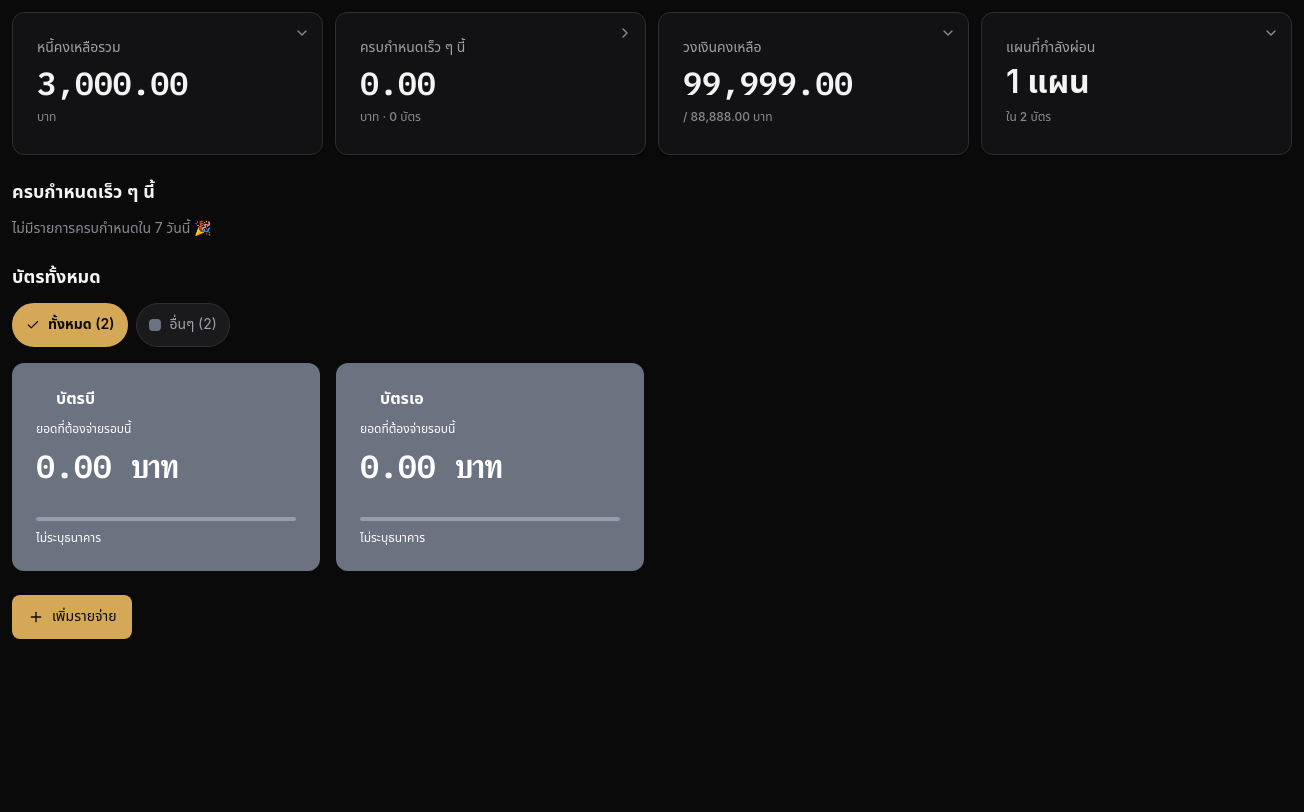
Test case: CreditCardDashboard KPI drill-down › credit and plans panels (phase 2) › desktop credit tile toggles the credit panel with a single id
The image size is (1304, 812).
Click the button "วงเงินคงเหลือ 99,999.00 / 88,888.00 บาท" at coordinates (814, 83), box [658, 12, 969, 155]
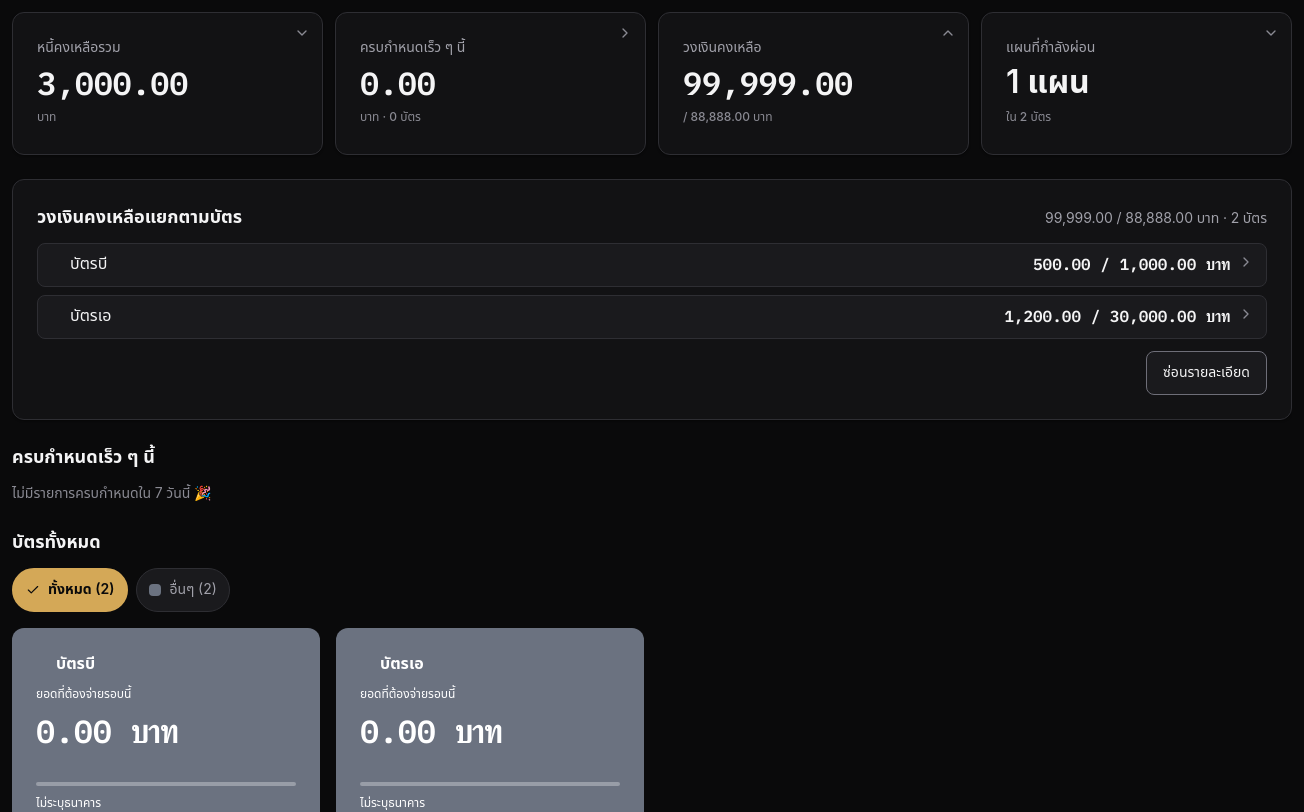
Result: the button "วงเงินคงเหลือ 99,999.00 / 88,888.00 บาท" is expanded
Result: the number of elements with id "cc-credit-breakdown" is 1 at [12, 179, 1292, 420]
Result: the list item "บัตรบี 500.00 / 1,000.00 บาท" is shown at [37, 243, 1267, 287]
Click the button "วงเงินคงเหลือ 99,999.00 / 88,888.00 บาท" at coordinates (814, 83), box [658, 12, 969, 155]
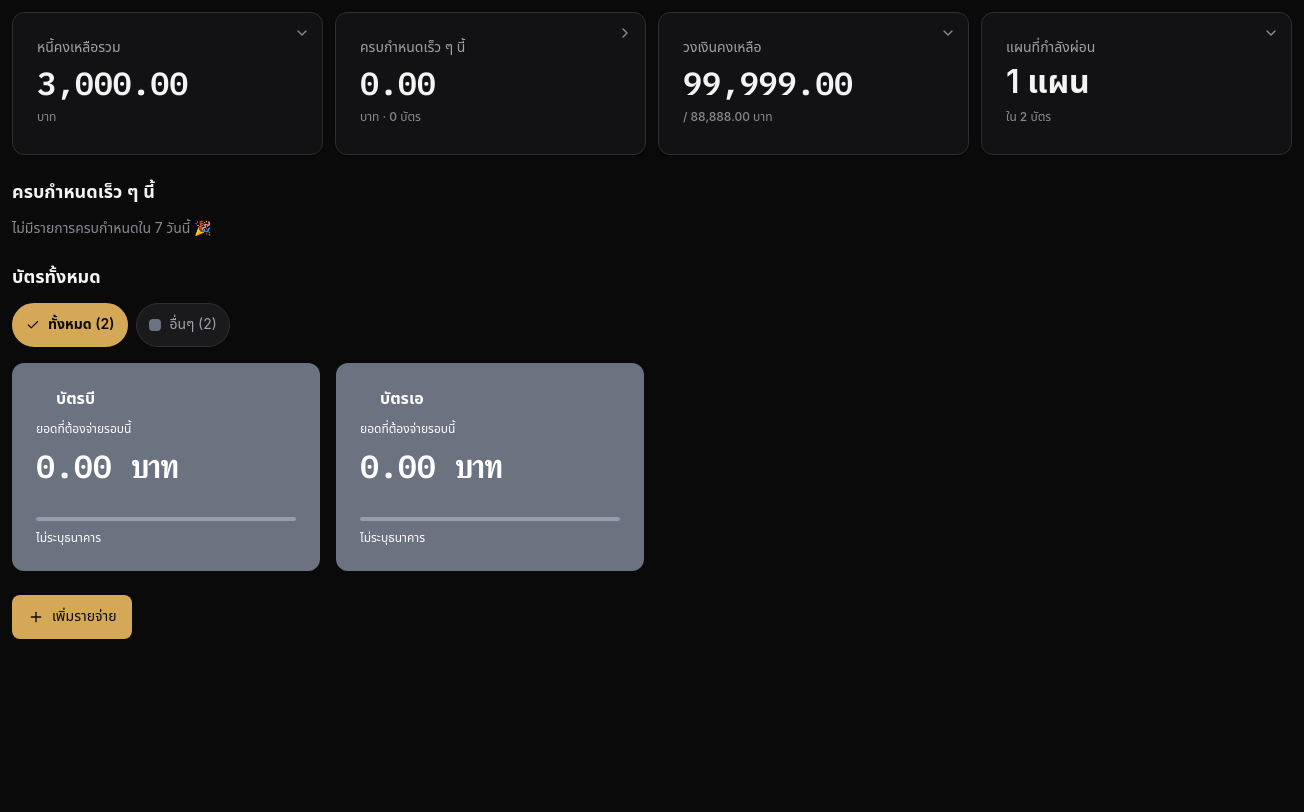
Result: the heading "วงเงินคงเหลือแยกตามบัตร" is gone
